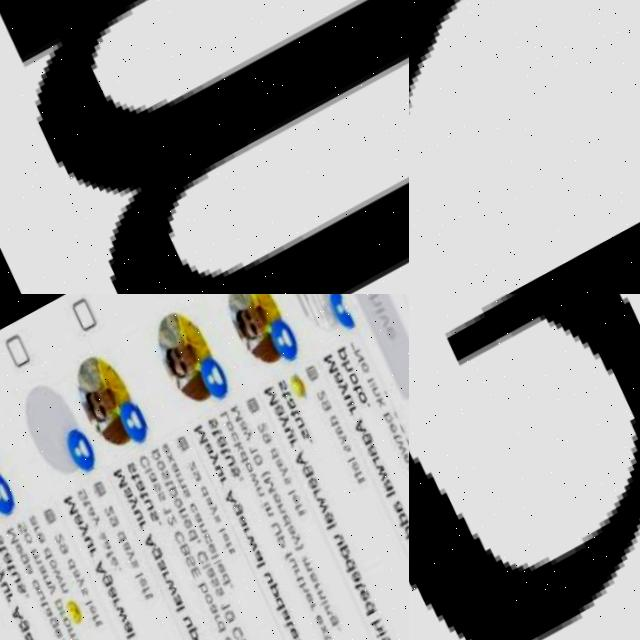0: (253, 457, 266, 472), (227, 614, 240, 628)
1: (224, 606, 233, 614), (251, 450, 259, 459), (166, 510, 174, 518)
2: (168, 516, 181, 530), (189, 464, 200, 477), (106, 508, 117, 520), (58, 535, 68, 547), (259, 427, 269, 439), (318, 395, 328, 407)
9: (110, 517, 123, 532), (321, 403, 334, 417), (262, 435, 274, 449), (62, 544, 73, 558), (194, 473, 205, 487)
M: (0, 0, 409, 294)
Q: (409, 0, 640, 294)
S: (409, 294, 640, 640)
